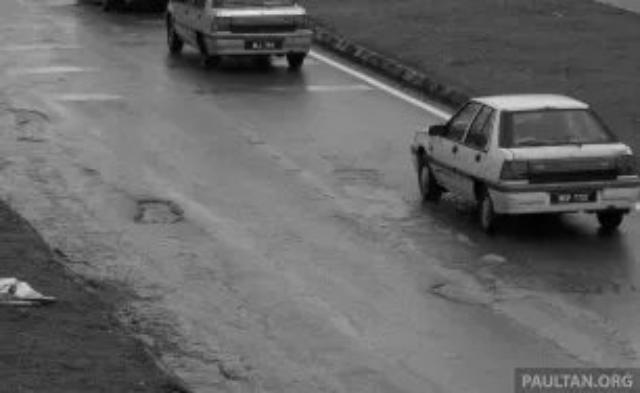Pothole: (134, 319, 246, 387), (418, 272, 622, 308), (11, 102, 53, 146), (134, 194, 186, 228), (329, 165, 378, 184)
